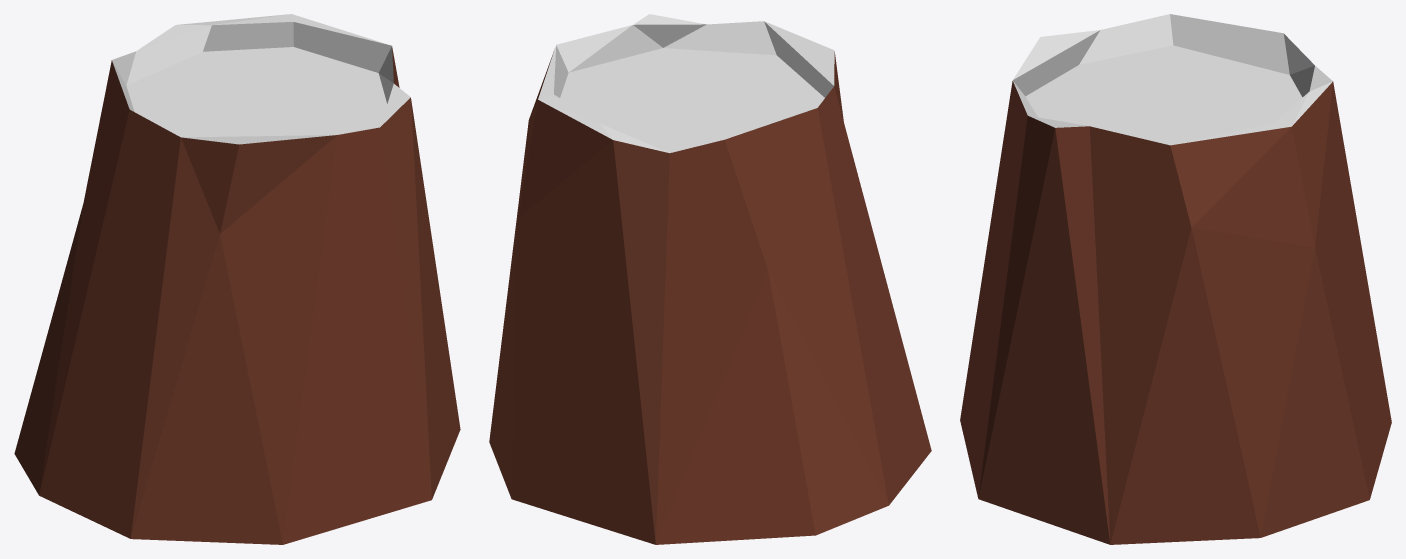
File: pine_trunk_type_3_extra_LOD2.fbx
3 views of the same model, side by side, from view 1: azimuth 30°, elevation 25°; view 2: azimuth 150°, elevation 25°; view 3: azimuth 270°, elevation 25° (orthographic). The views are drawn at different scales.
Visible parts, largest first — view 1: pt_type_3.001; view 2: pt_type_3.001; view 3: pt_type_3.001.
Boxes of the visible parts, x1,y1,x2,y2 form: pt_type_3.001: (14,14,460,544); pt_type_3.001: (489,14,931,544); pt_type_3.001: (960,14,1391,544).
Bounding box in the file's own units: 202 × 188 × 193.
